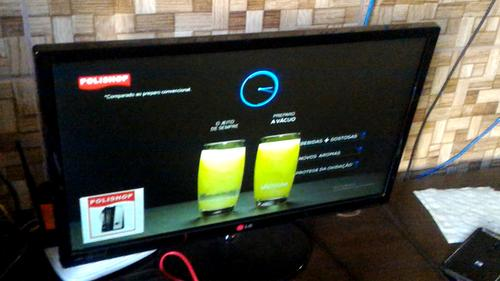Polishop #1: (79, 187, 145, 244)
